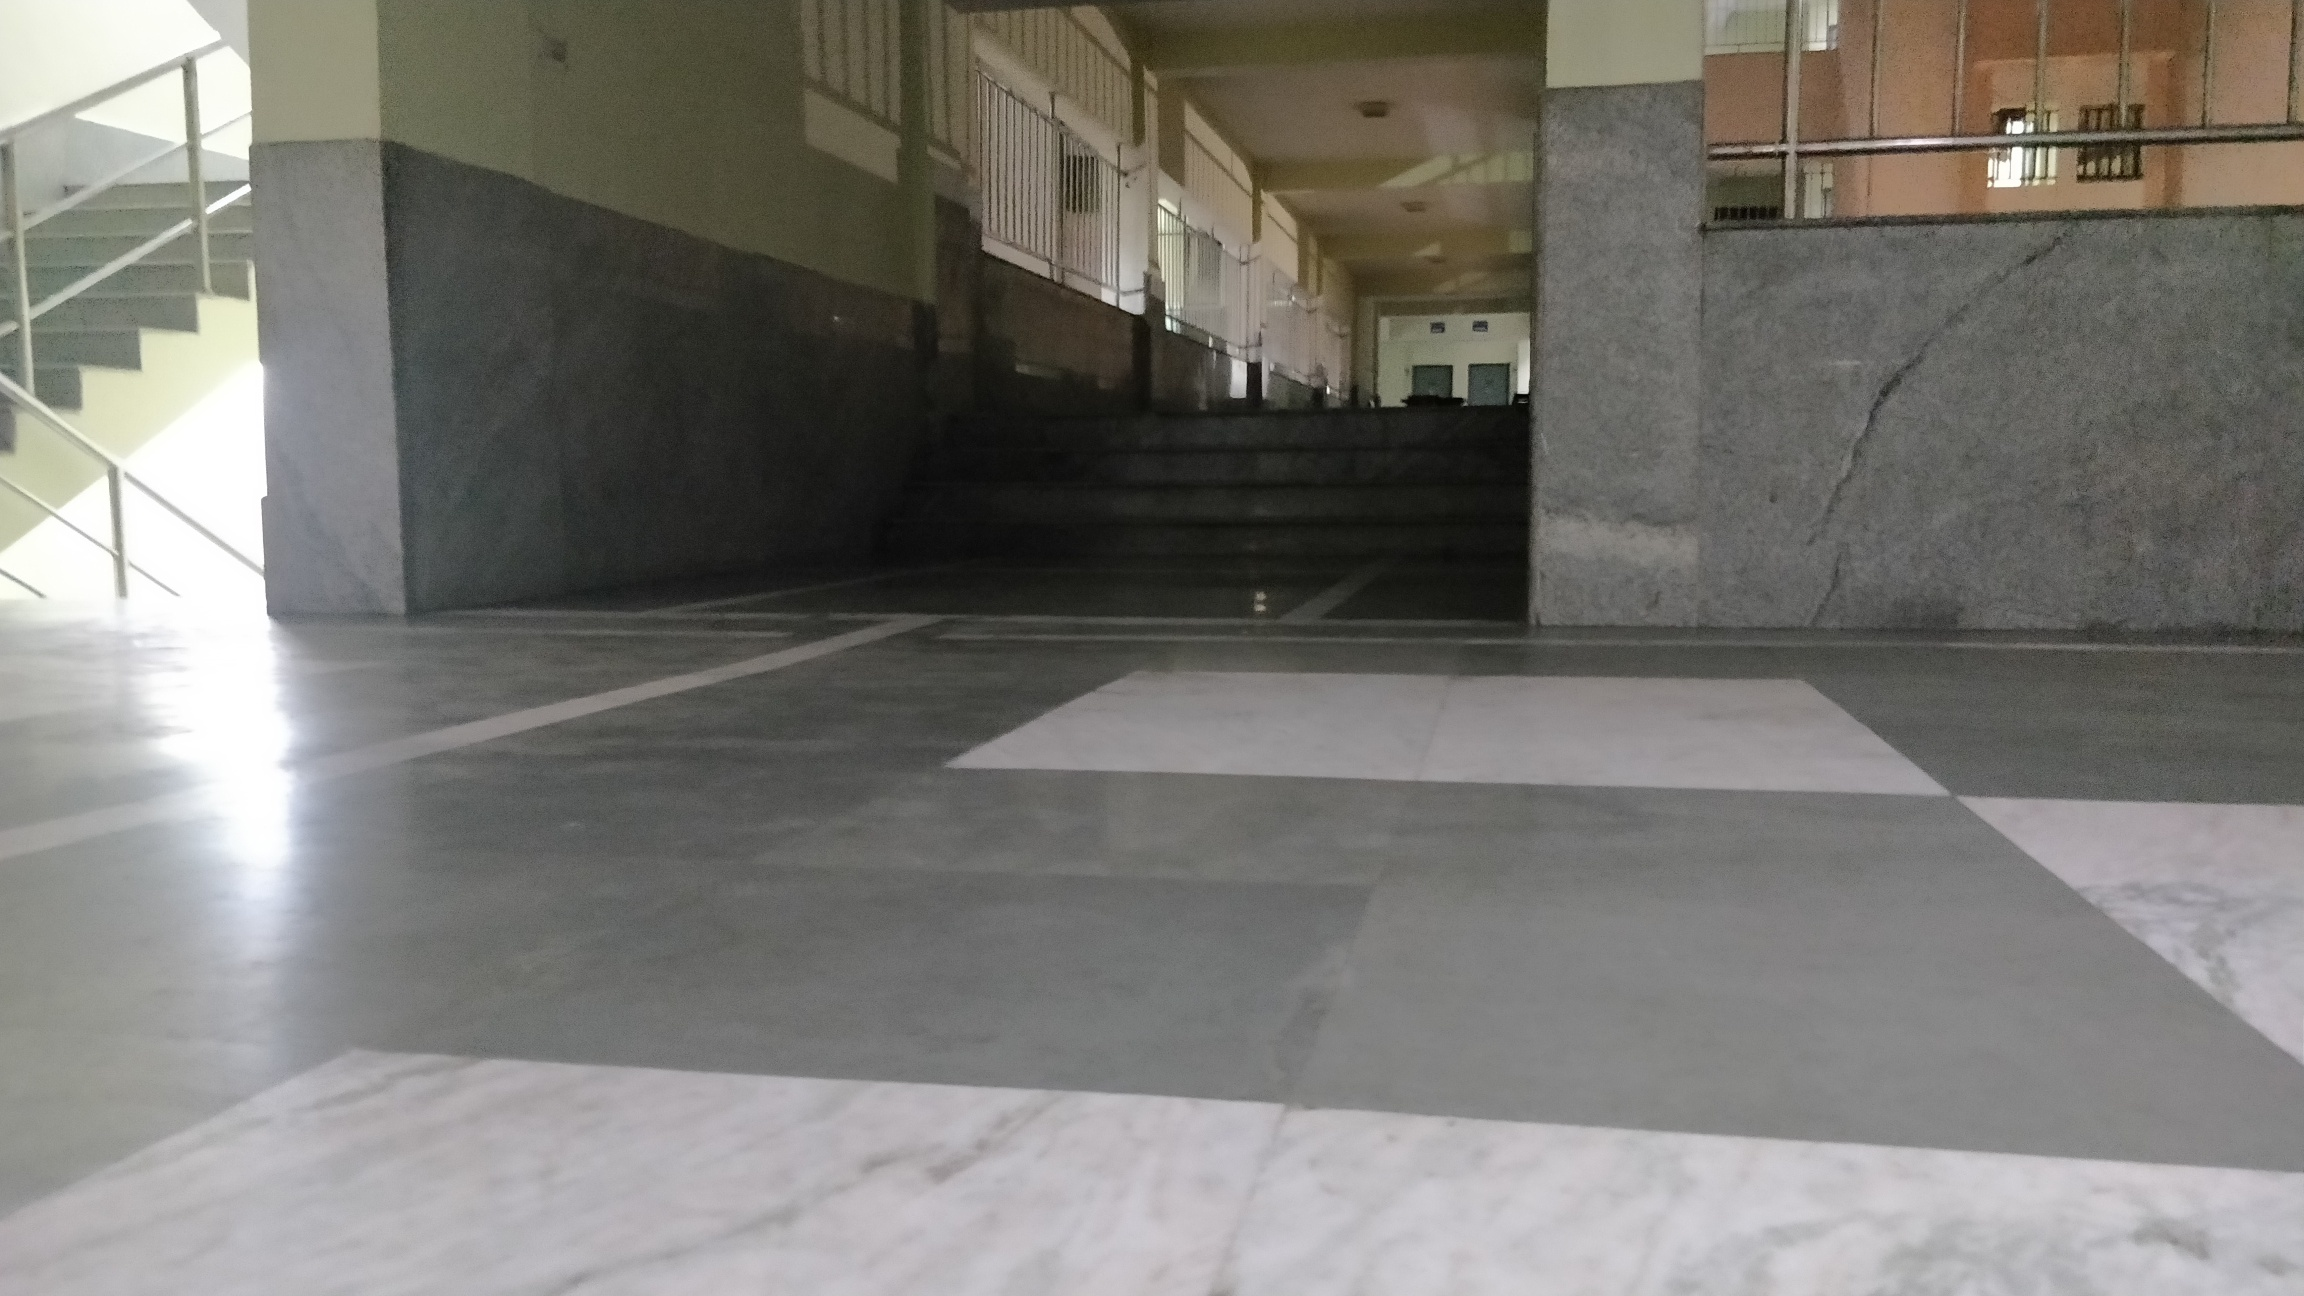stairs_up: (930, 394, 1522, 557)
